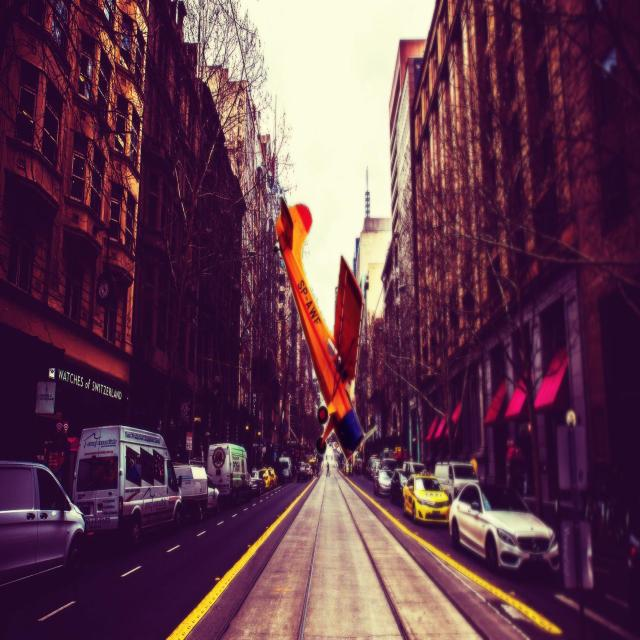airplane: (273, 197, 378, 460)
